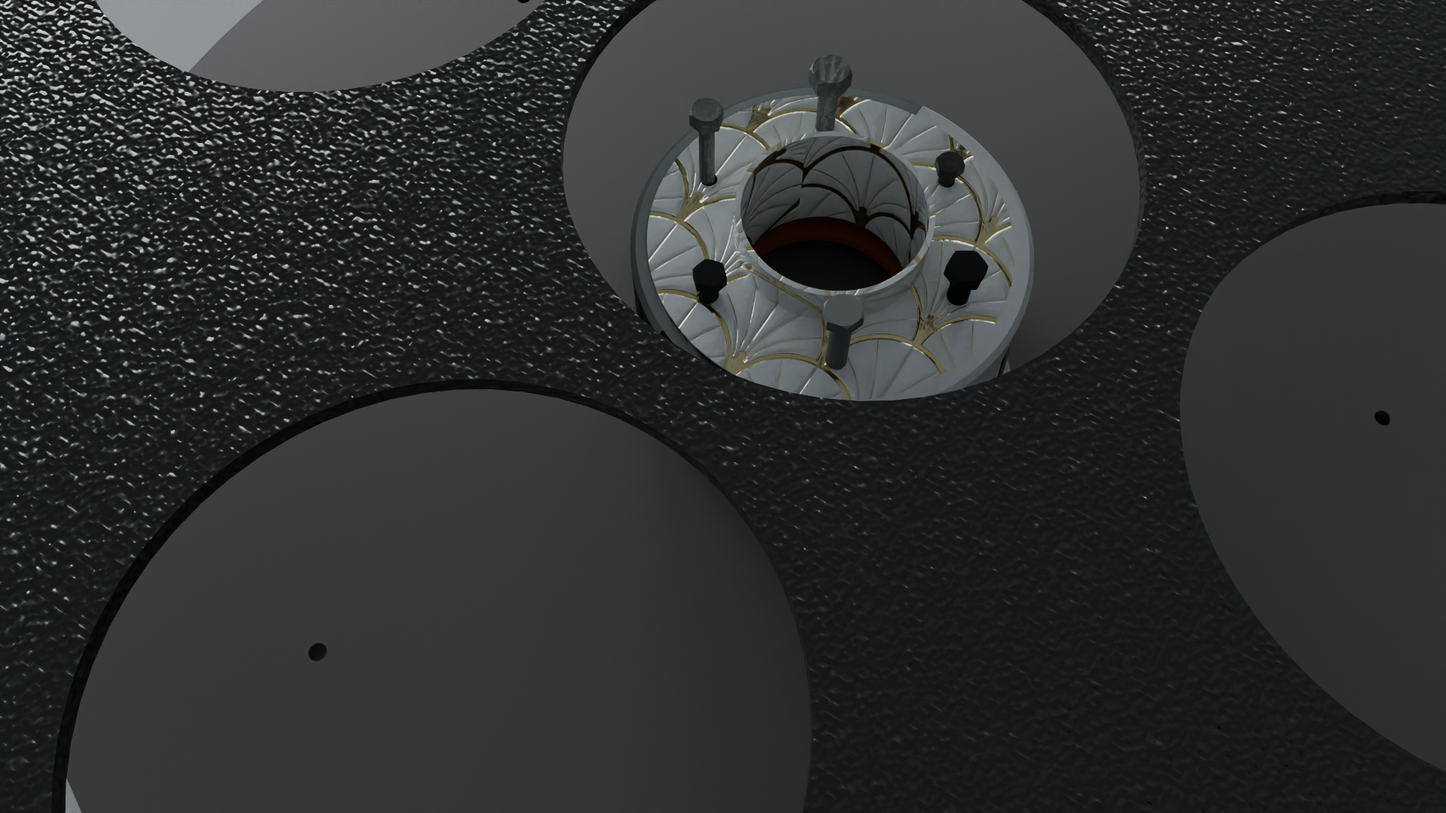bolt: (823, 292, 865, 329), (810, 55, 853, 87), (946, 251, 988, 282), (693, 259, 727, 288), (689, 98, 724, 126), (936, 151, 965, 174)
